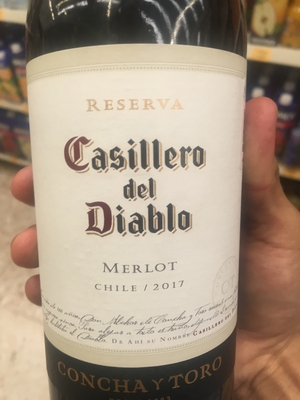casillero del diablo merlot: (21, 1, 243, 400)
